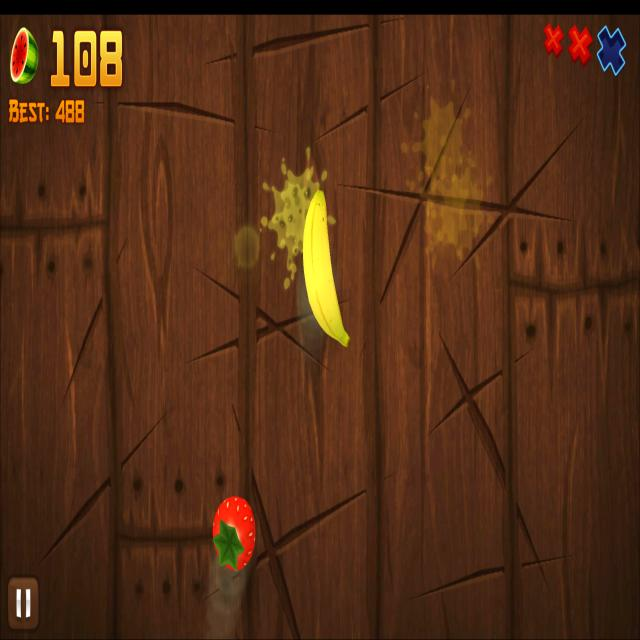fruit: (303, 192, 352, 347), (212, 496, 256, 570)
